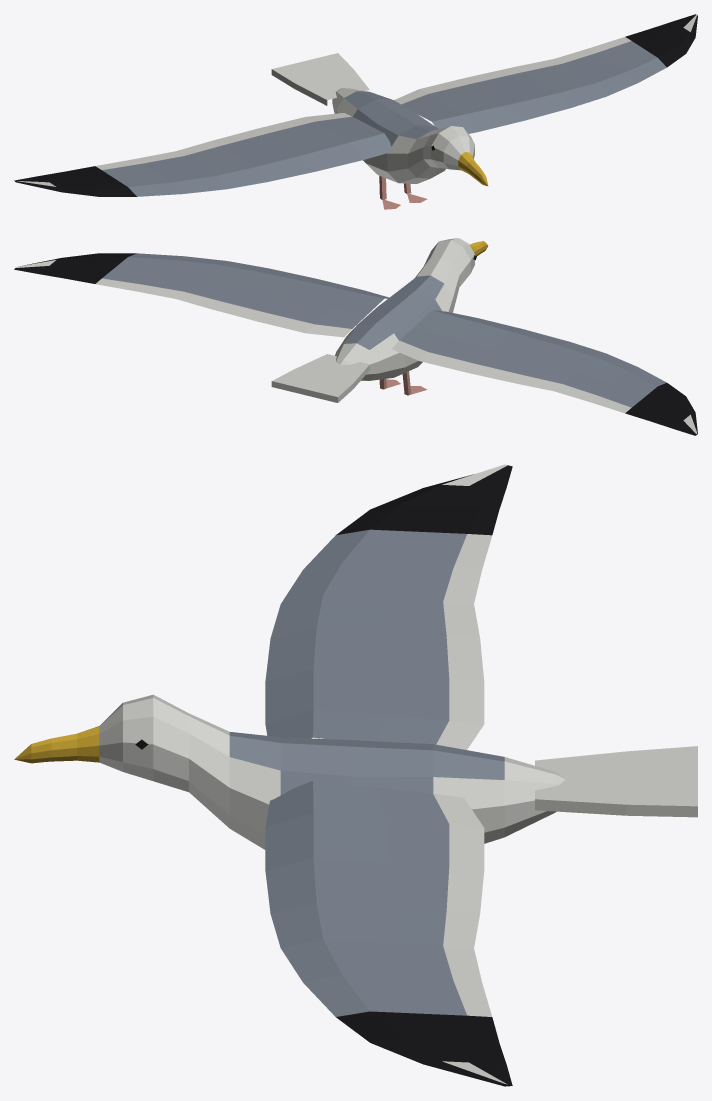
The model's file is seagull_mid.glb.
3 renders of one model, top to bottom at view 1: azimuth 30°, elevation 25°; view 2: azimuth 150°, elevation 25°; view 3: azimuth 270°, elevation 25°, orthographic. The views are drawn at different scales.
Parts seen in each view (by area): view 1: Seagull; view 2: Seagull; view 3: Seagull.
Part boxes in pixels (bbox=[...]): Seagull: bbox=[14, 14, 697, 209]; Seagull: bbox=[14, 238, 697, 435]; Seagull: bbox=[14, 464, 697, 1086].
Size of the model in its own units: 1.44 by 0.225 by 0.672.
